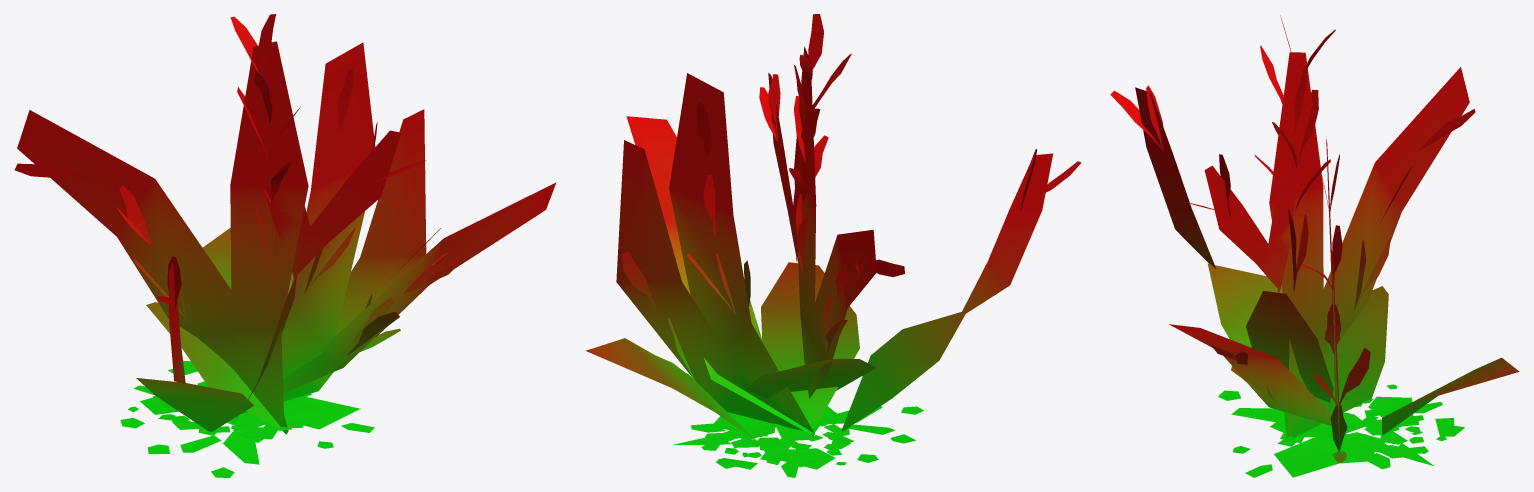
Rendered from River Saltbush_LOD3_Var10_vdfpcgbia.fbx.
The picture shows the model from 3 angles, left to right: view 1: azimuth 30°, elevation 25°; view 2: azimuth 150°, elevation 25°; view 3: azimuth 270°, elevation 25°; orthographic projection. The views are drawn at different scales.
Parts seen in each view (by area): view 1: _mxn0_Var10_LOD3; view 2: _mxn0_Var10_LOD3; view 3: _mxn0_Var10_LOD3.
Boxes of the visible parts, x1,y1,x2,y2 form: _mxn0_Var10_LOD3: (14, 14, 556, 477); _mxn0_Var10_LOD3: (585, 14, 1081, 477); _mxn0_Var10_LOD3: (1110, 15, 1519, 477).
Bounding box in the file's own units: 21.11 × 19.59 × 17.24.
